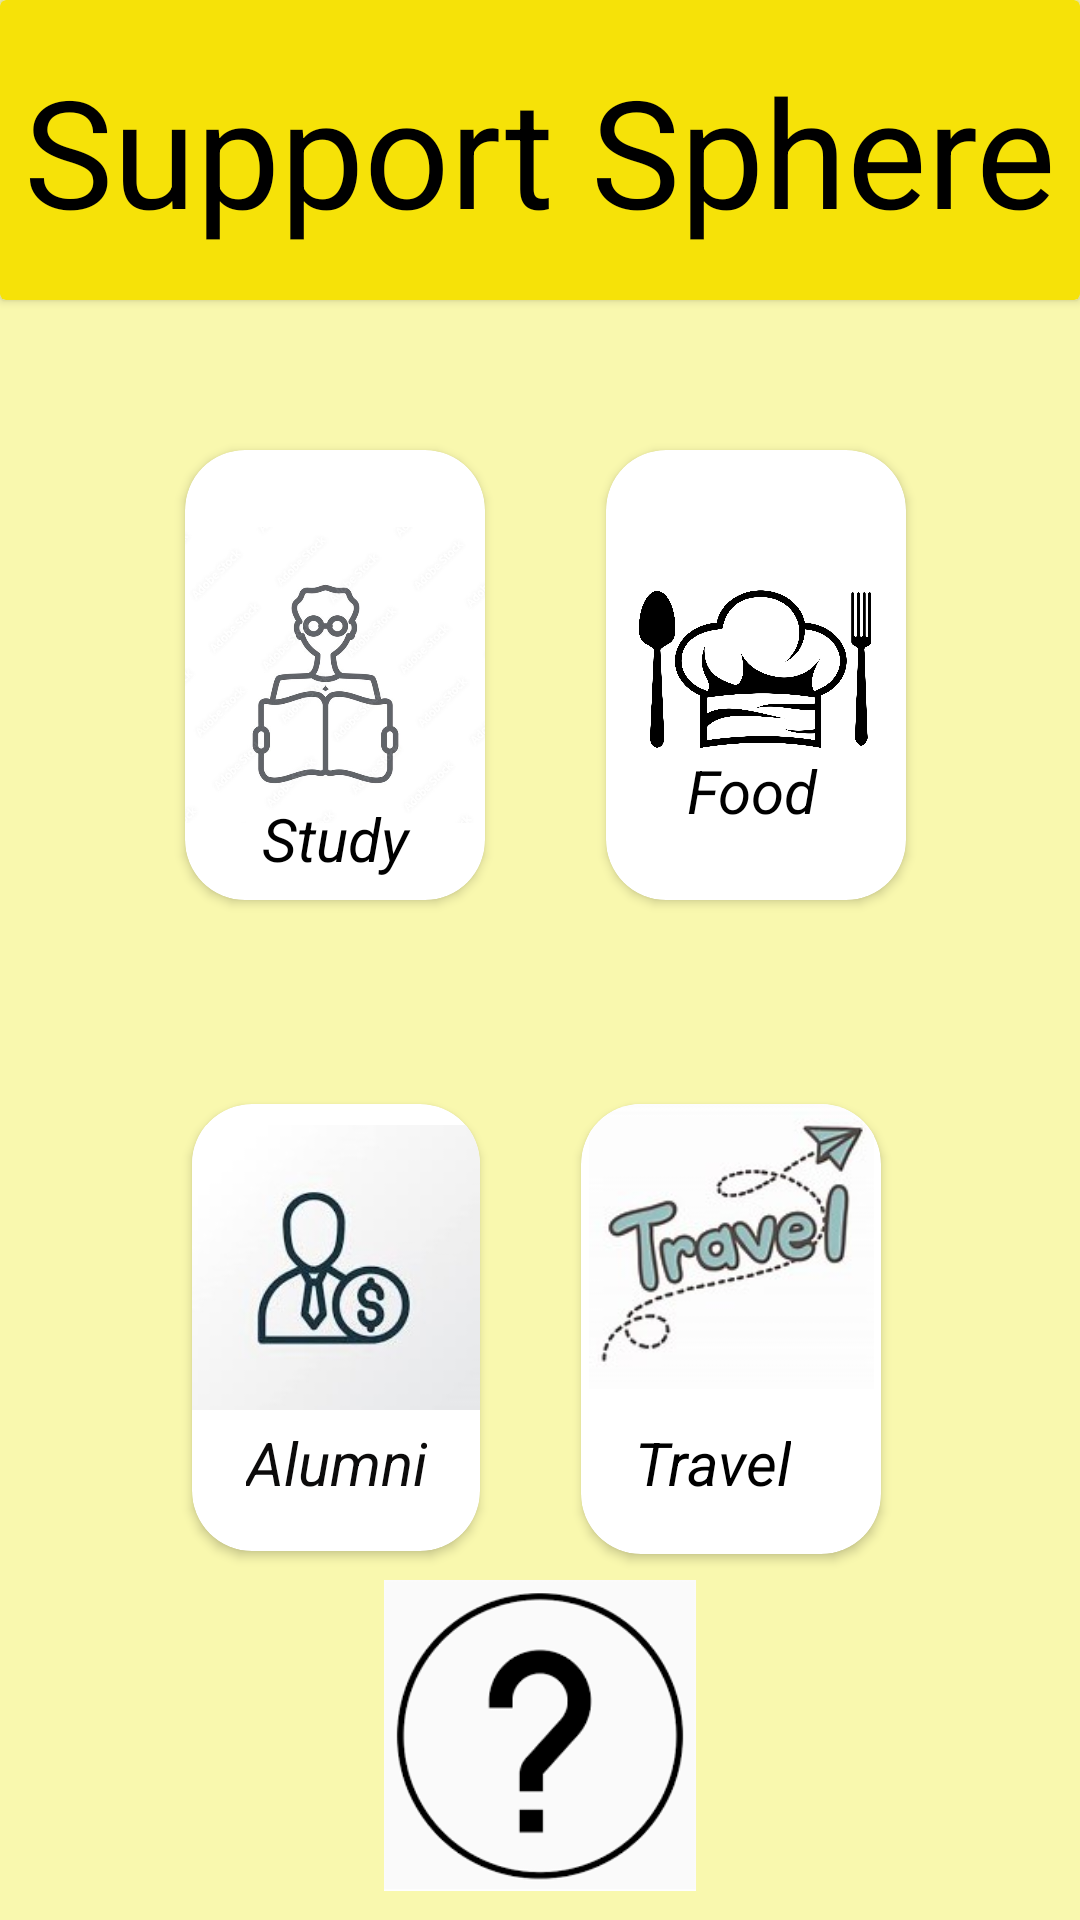

Screen size 1080 × 1920. Icon name, then its box in pixels as (x1, y1, x2, y2):
HELP: (384, 1580, 696, 1891)
